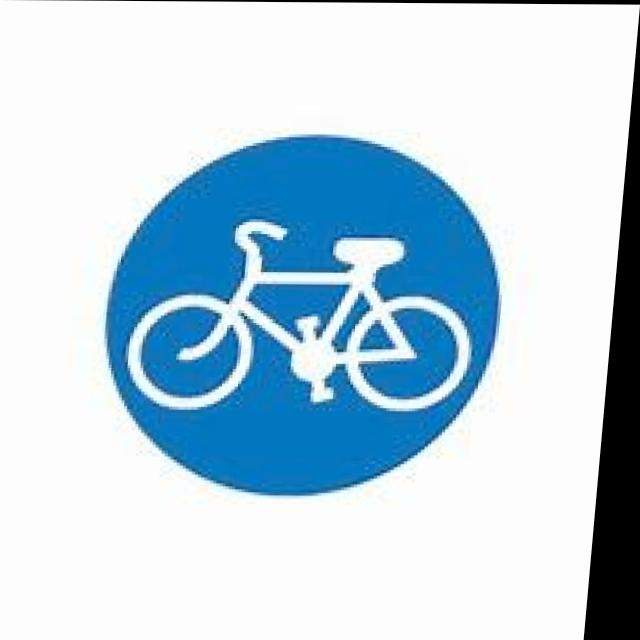COMPULSARY_CYCLE_TRACK: (104, 119, 512, 497)
